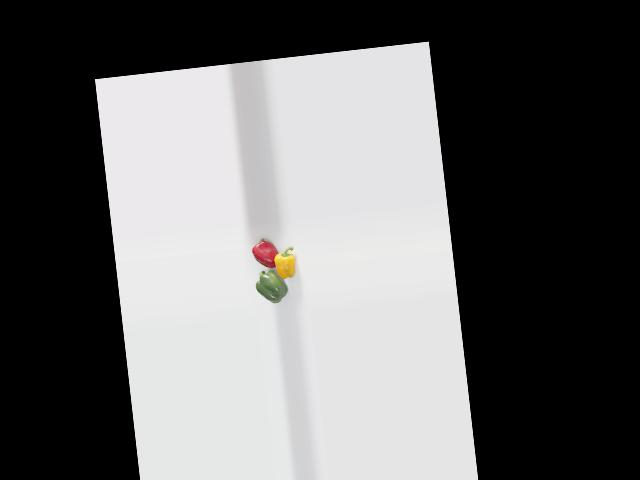bell_pepper: (268, 246, 300, 280)
